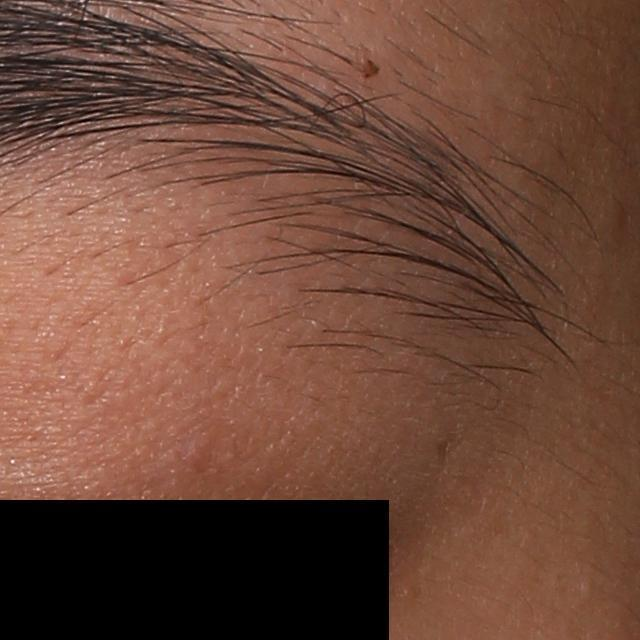nevus: (357, 55, 381, 83)
